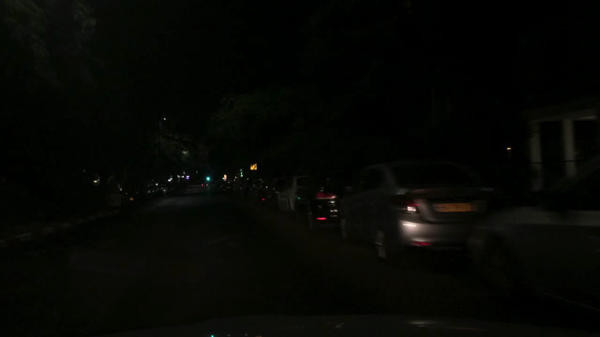car: (338, 158, 507, 261), (296, 174, 352, 231), (277, 175, 310, 218), (249, 179, 278, 204), (147, 182, 171, 196), (234, 179, 248, 191), (220, 181, 235, 189), (201, 183, 209, 187)
